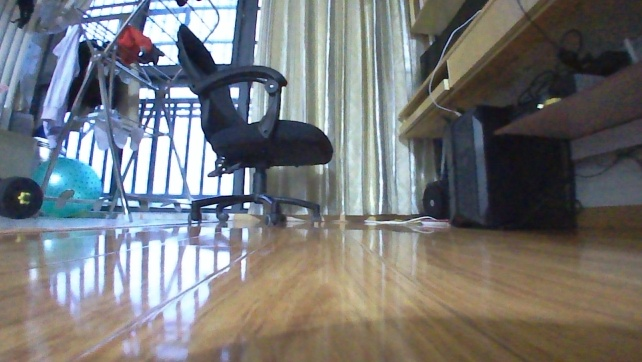wire: (428, 7, 485, 118), (517, 0, 597, 75), (574, 146, 641, 181), (515, 68, 555, 106), (362, 213, 435, 225)
